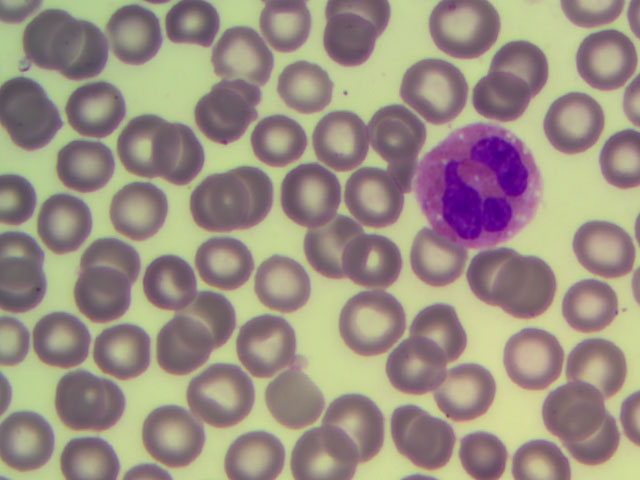RBC: (501, 418, 562, 480), (450, 418, 511, 480), (300, 418, 361, 480), (220, 418, 281, 480), (53, 418, 114, 480), (1, 409, 62, 471), (23, 10, 84, 71), (59, 25, 120, 86), (95, 4, 156, 65), (72, 78, 133, 139), (58, 126, 119, 187), (7, 87, 68, 148), (36, 186, 97, 247), (5, 236, 66, 297), (70, 233, 131, 294), (72, 258, 133, 319), (38, 296, 99, 357), (45, 362, 106, 423), (102, 322, 163, 383), (146, 317, 207, 378), (184, 280, 245, 341), (142, 258, 203, 319), (191, 235, 252, 296), (185, 167, 246, 228), (222, 153, 283, 214), (155, 130, 216, 191), (115, 113, 176, 174), (192, 82, 253, 143), (213, 23, 274, 84), (278, 47, 339, 108), (254, 104, 315, 165), (288, 170, 349, 231), (299, 110, 360, 171), (349, 170, 410, 231), (360, 99, 421, 160), (410, 57, 471, 118), (431, 2, 492, 63), (470, 62, 531, 123), (488, 32, 549, 93), (541, 90, 602, 151), (575, 29, 636, 90), (579, 203, 640, 264), (559, 274, 620, 335), (568, 335, 629, 396), (547, 377, 608, 438), (565, 401, 626, 462), (408, 415, 469, 476), (378, 393, 439, 454), (323, 389, 384, 450), (268, 370, 329, 431), (193, 367, 254, 428), (145, 398, 206, 459), (236, 311, 297, 372), (255, 248, 316, 309), (307, 213, 368, 274), (346, 235, 407, 296), (341, 296, 402, 357), (382, 340, 443, 401), (407, 301, 468, 362), (431, 355, 492, 416), (493, 330, 554, 391), (504, 258, 565, 319), (469, 246, 530, 307), (404, 232, 465, 293), (261, 1, 322, 61)
WBC: (418, 124, 541, 244)
